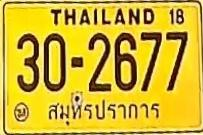0: (43, 32, 66, 92)
2: (88, 33, 111, 92)
3: (16, 34, 39, 92)
6: (114, 32, 136, 90)
7: (165, 31, 188, 91), (140, 32, 162, 92)
SPK: (47, 97, 162, 126)
